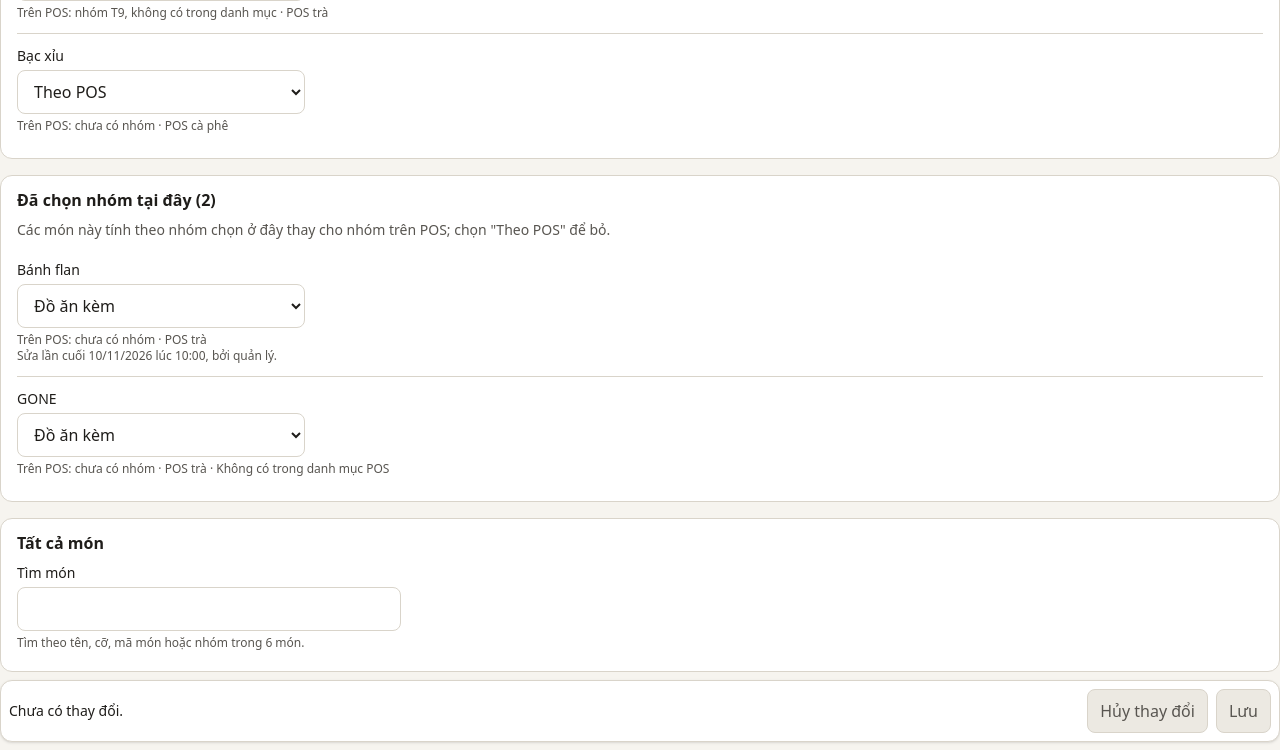
CategoriesForm › shows an edit made in the search in the list above too, and cancels back to the saved types
(page scrolled)
Type "hat" into the search field labelled "Tìm món" at (209,609), box [17,587,401,631]
(page scrolled)
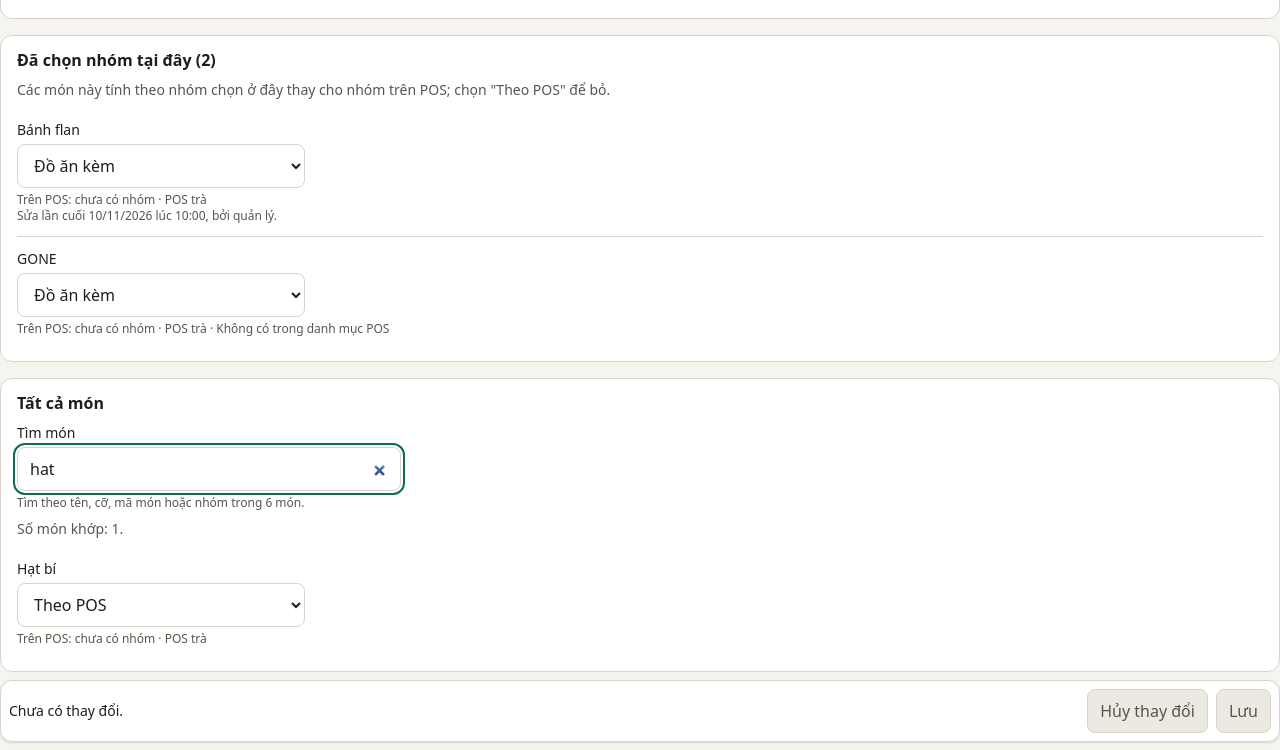
Select "Trà sữa" in the dropdown labelled "Hạt bí" at (161,605), box [17,583,305,627]
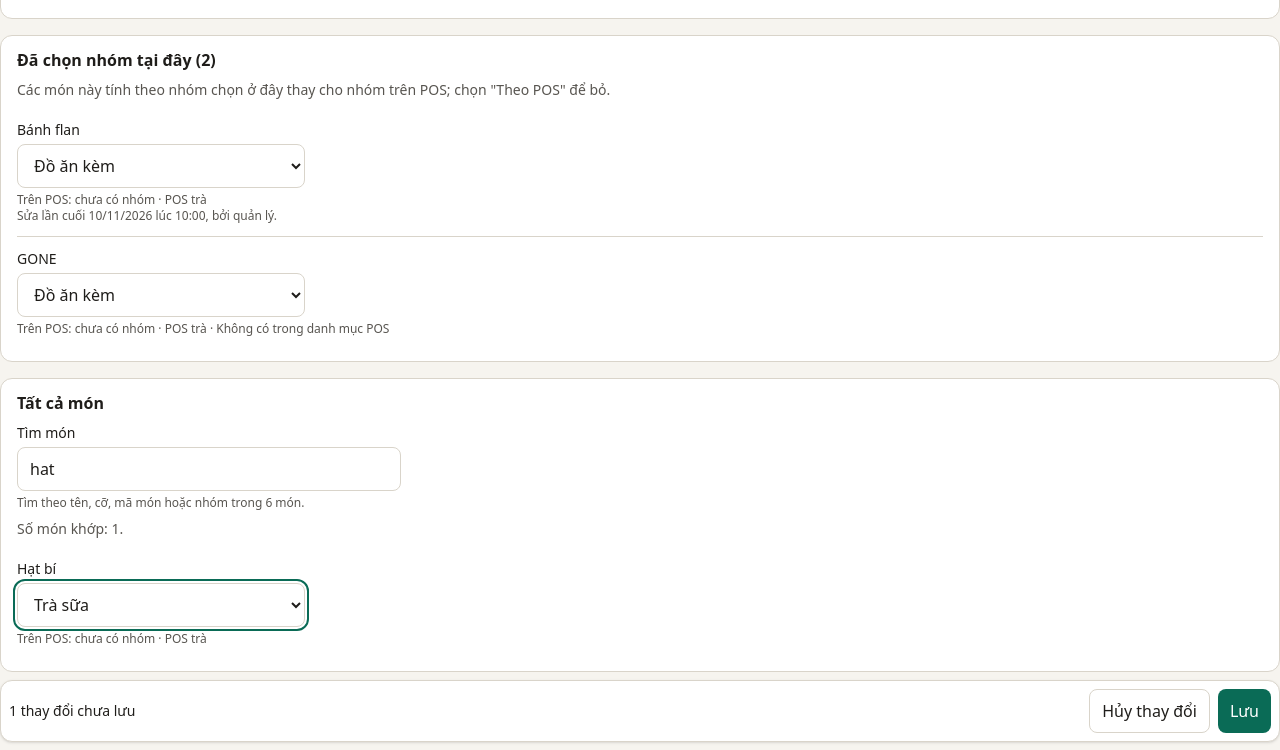
Click the button "Hủy thay đổi" at (1150,711), box [1089,689,1210,733]
(page scrolled)
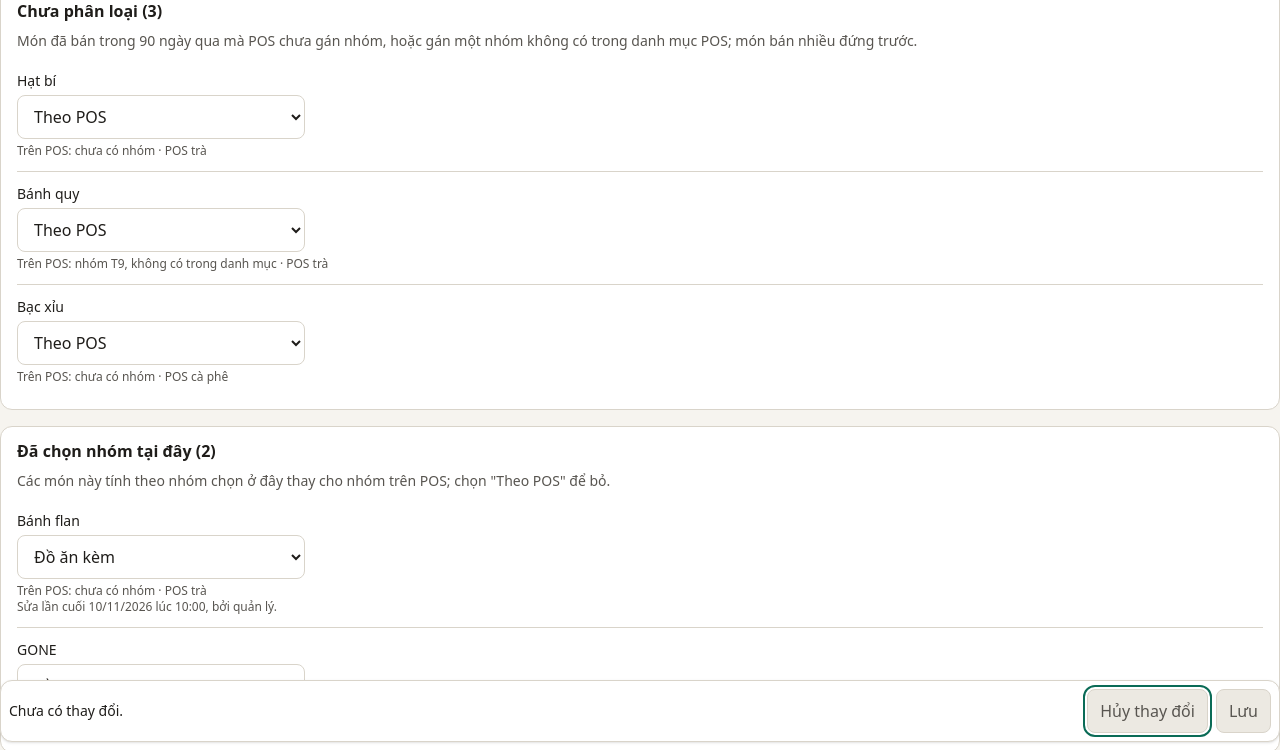
expect the dropdown labelled "Hạt bí" shows "Theo POS": met, box [17,95,305,139]
